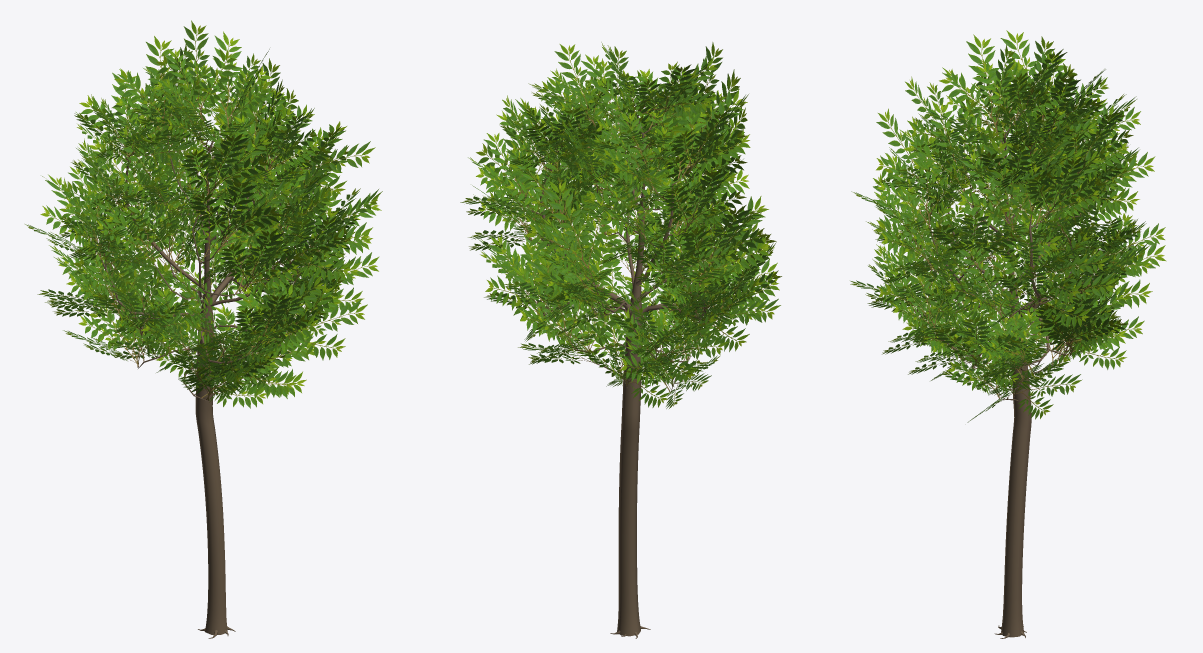
The model's file is corealm_ash_2.glb.
3 renders of one model, left to right at view 1: azimuth 30°, elevation 25°; view 2: azimuth 150°, elevation 25°; view 3: azimuth 270°, elevation 25°, orthographic. The views are drawn at different scales.
Visible parts, largest first — view 1: corealm_ash_2; view 2: corealm_ash_2; view 3: corealm_ash_2.
Boxes of the visible parts, x1,y1,x2,y2 form: corealm_ash_2: (25, 20, 382, 638); corealm_ash_2: (460, 42, 781, 638); corealm_ash_2: (850, 30, 1166, 638).
Size of the model in its own units: 5.03 by 8.66 by 4.67.
Materials: 2 (1 with a texture image).
